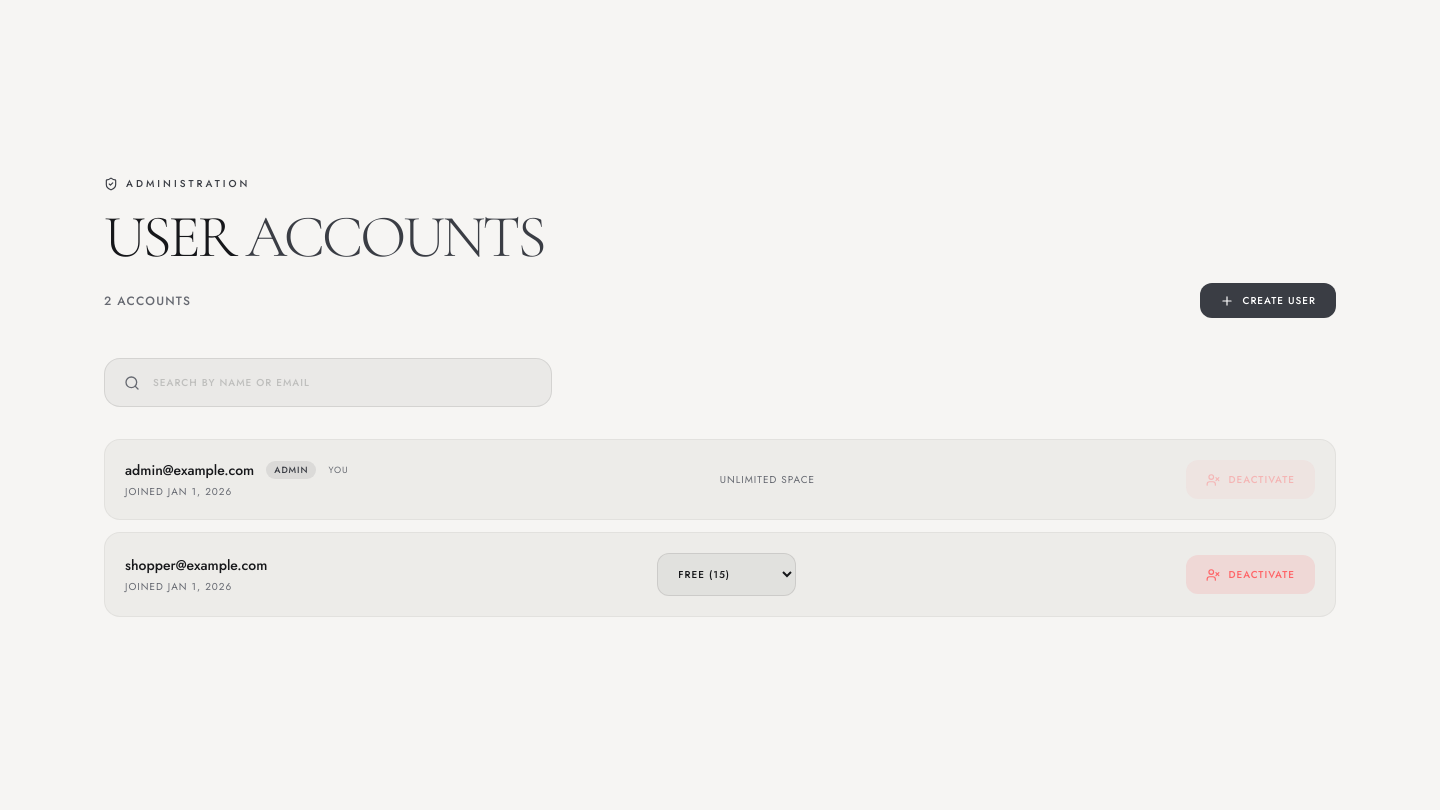
Test: Admin: plans › choosing Premium saves it and says so
Step 1. Select "Premium (300)" in the dropdown named "plan for shopper@example.com" → x=727, y=574, box [657, 553, 796, 596]
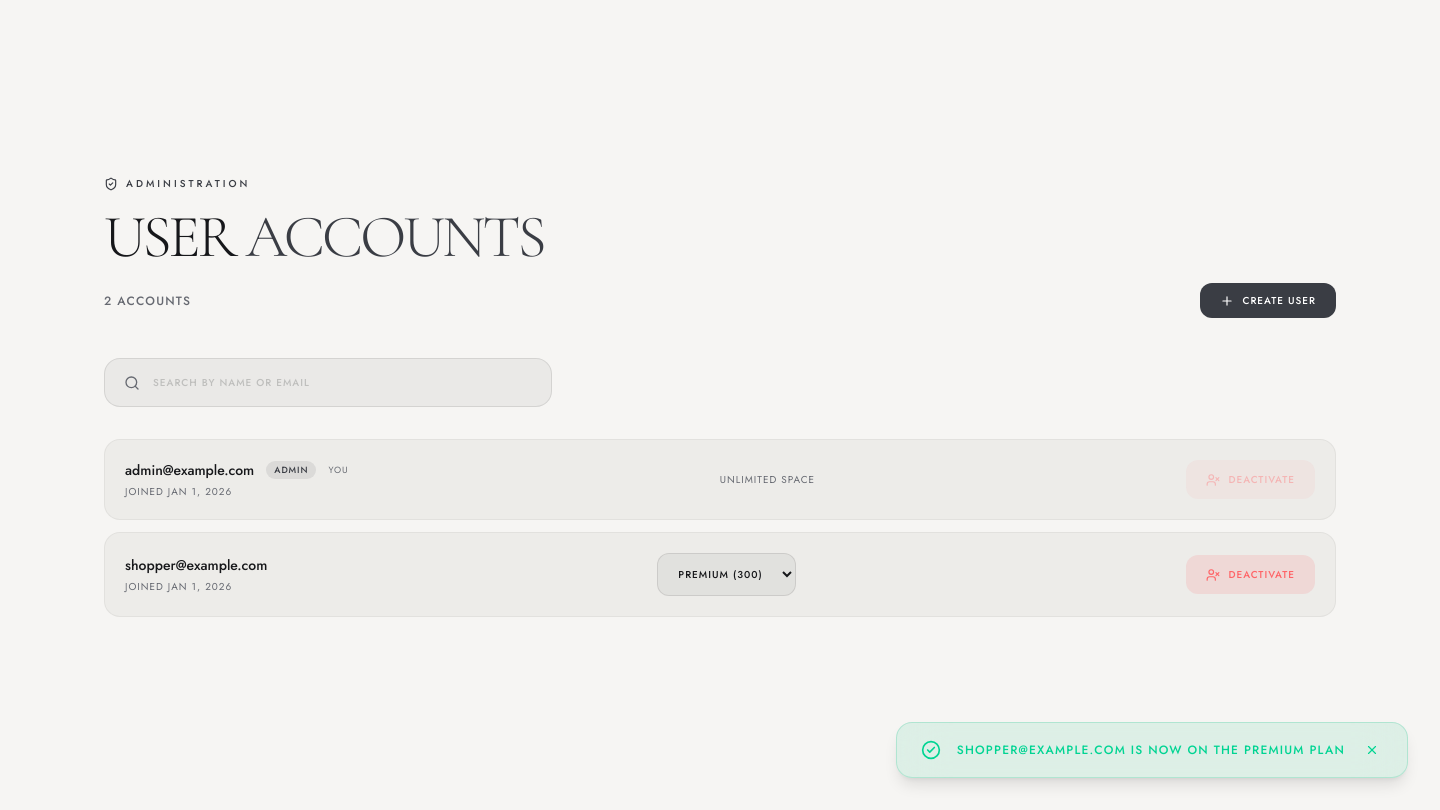
Result: the text "shopper@example.com is now on the Premium plan" is shown at [957, 742, 1345, 758]
